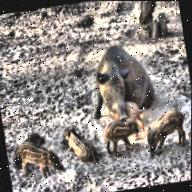boar: (77, 41, 150, 120), (15, 130, 65, 182), (139, 114, 189, 155), (55, 122, 98, 165), (98, 114, 141, 154)
